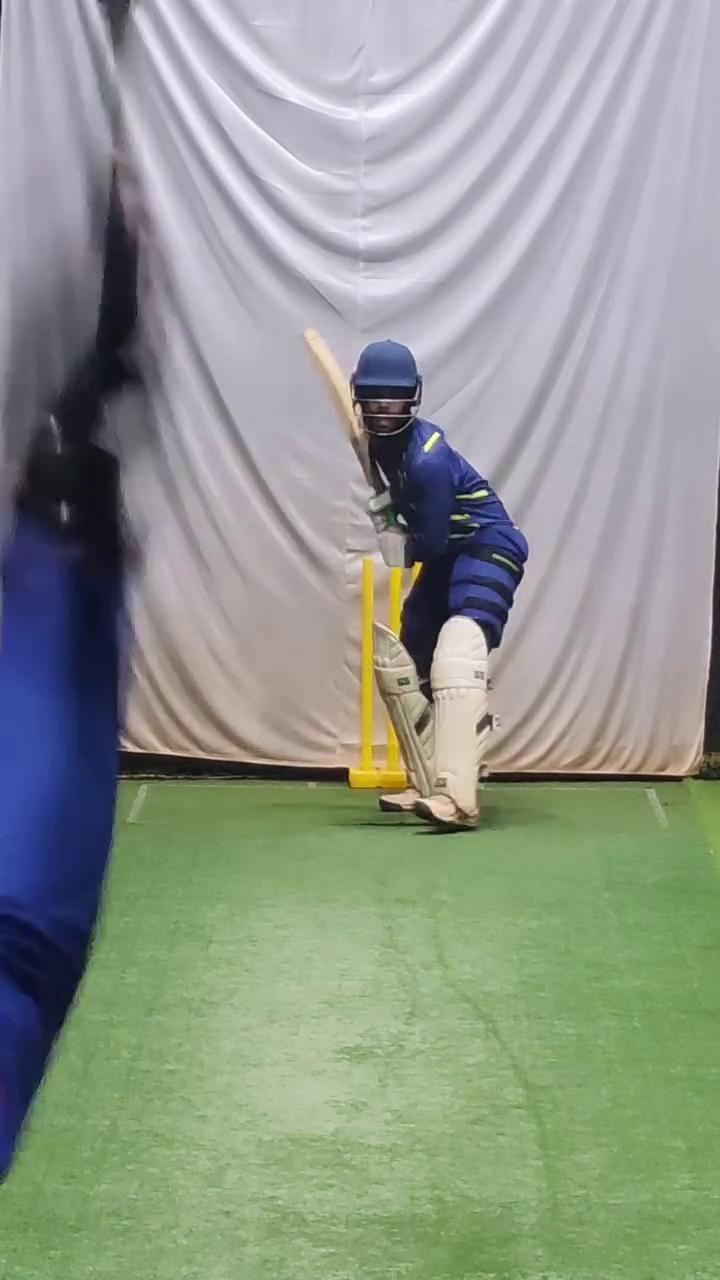bat: (297, 319, 399, 496)
